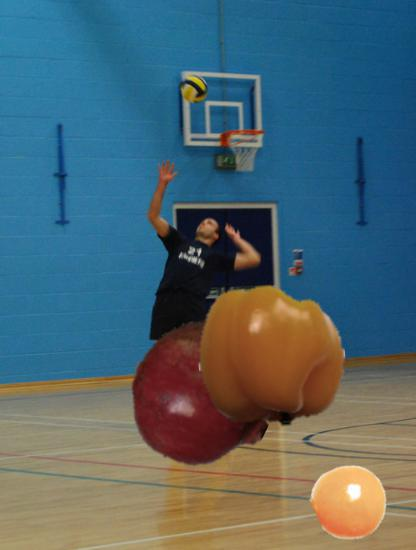Pepper: (198, 282, 346, 430), (204, 335, 260, 391)
Physalis: (312, 464, 390, 542)
Pomegranate: (130, 323, 276, 469)
